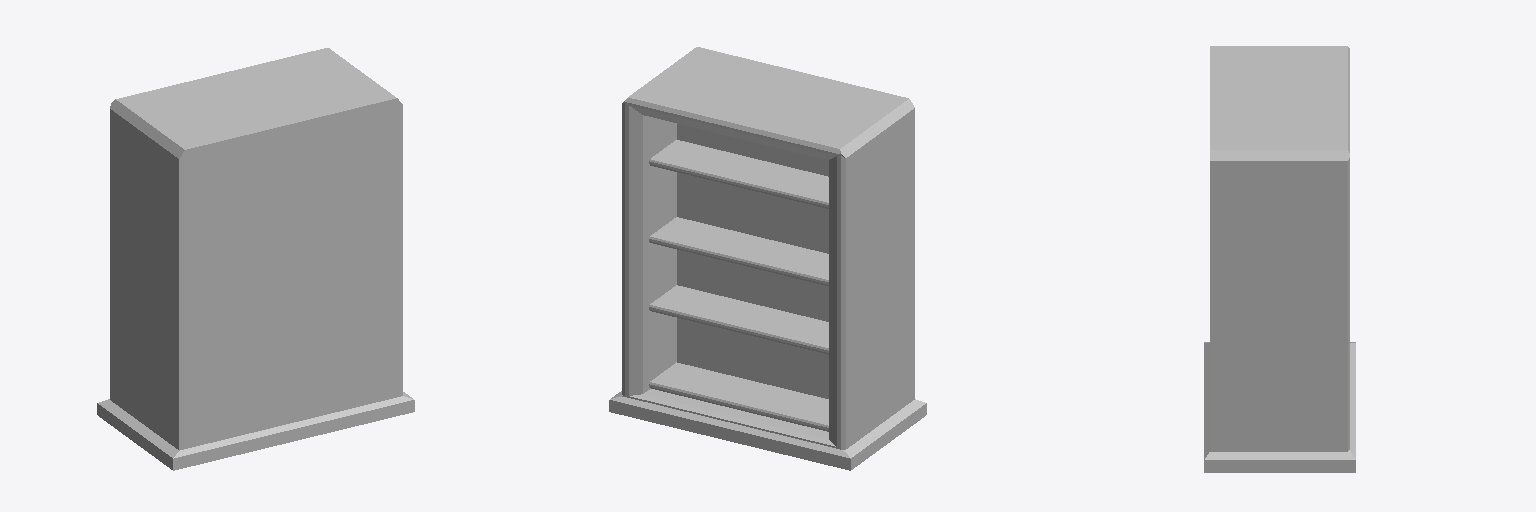
File: bookcase.obj
3 views of the same model, side by side, from view 1: azimuth 30°, elevation 25°; view 2: azimuth 150°, elevation 25°; view 3: azimuth 270°, elevation 25° (orthographic).
Parts seen in each view (by area): view 1: Cube; view 2: Cube; view 3: Cube.
Boxes of the visible parts, x1=… form: Cube: x1=97, y1=48, x2=414, y2=470; Cube: x1=609, y1=47, x2=926, y2=470; Cube: x1=1204, y1=46, x2=1355, y2=472.
Size of the model in its own units: 0.4948 by 0.6176 by 0.2695.